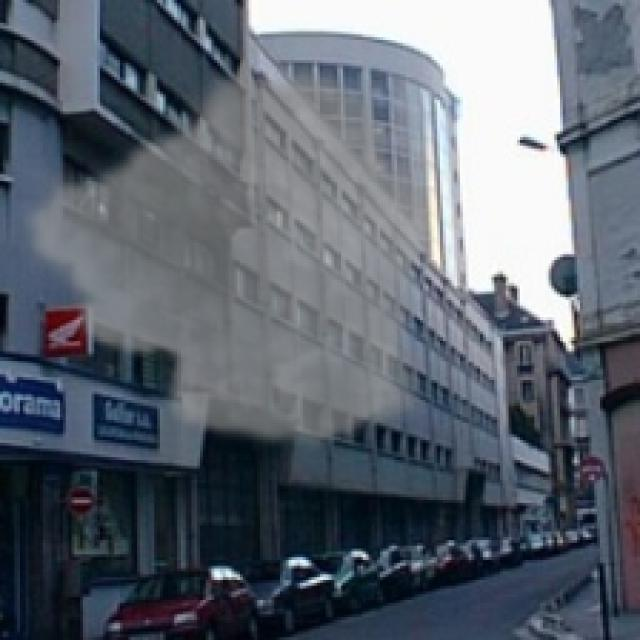Smoke: (14, 57, 437, 454)
